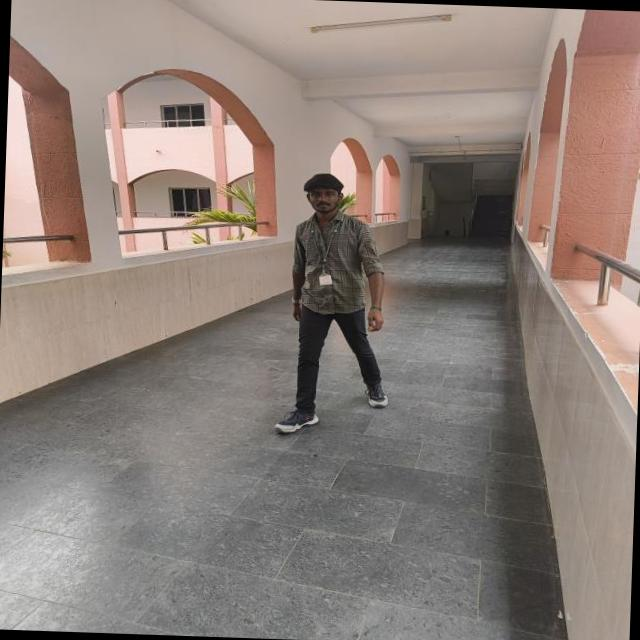id_card: (313, 214, 338, 293)
